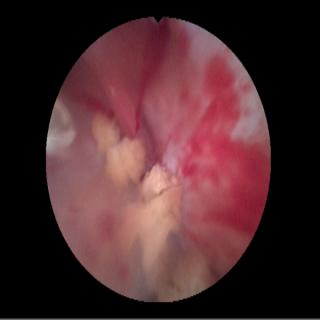stone: (123, 189, 211, 298), (91, 114, 146, 188), (142, 165, 177, 199)
tissue: (49, 22, 266, 292)
